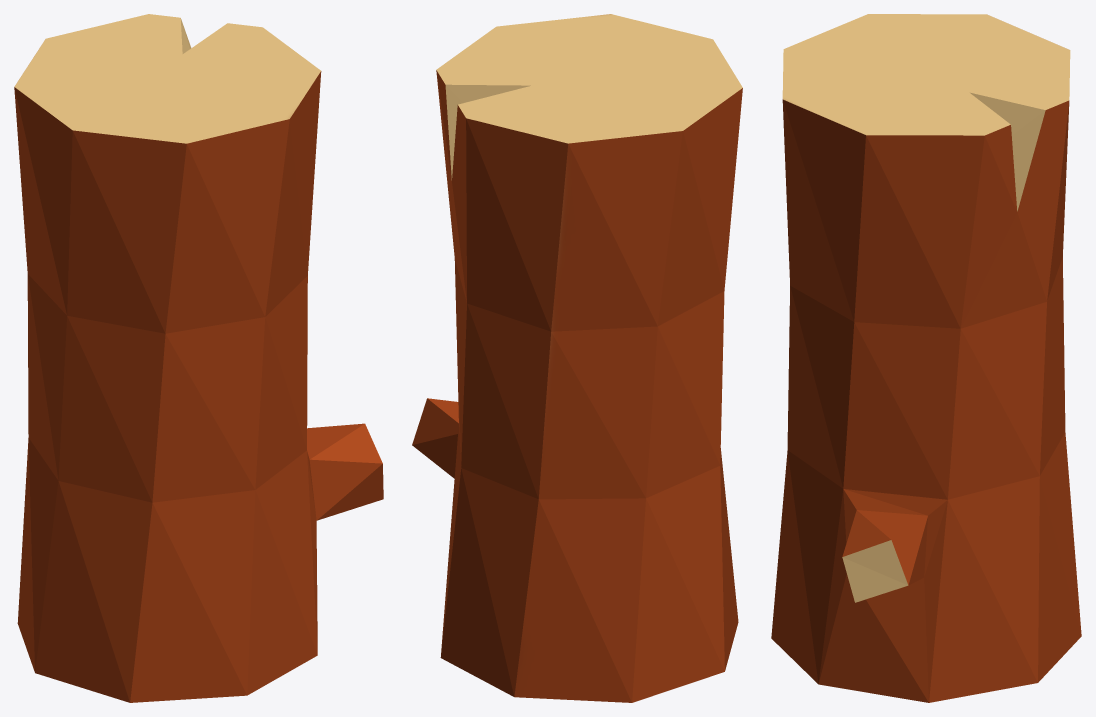
File: log.fbx
3 views of the same model, side by side, from view 1: azimuth 30°, elevation 25°; view 2: azimuth 150°, elevation 25°; view 3: azimuth 270°, elevation 25° (orthographic).
Visible parts, largest first — view 1: Cylinder; view 2: Cylinder; view 3: Cylinder.
Part boxes in pixels (x1,y1,x2,y2): Cylinder: (14, 14, 383, 702); Cylinder: (412, 14, 742, 702); Cylinder: (771, 14, 1081, 702).
Size of the model in its own units: 120 by 200 by 99.99.
